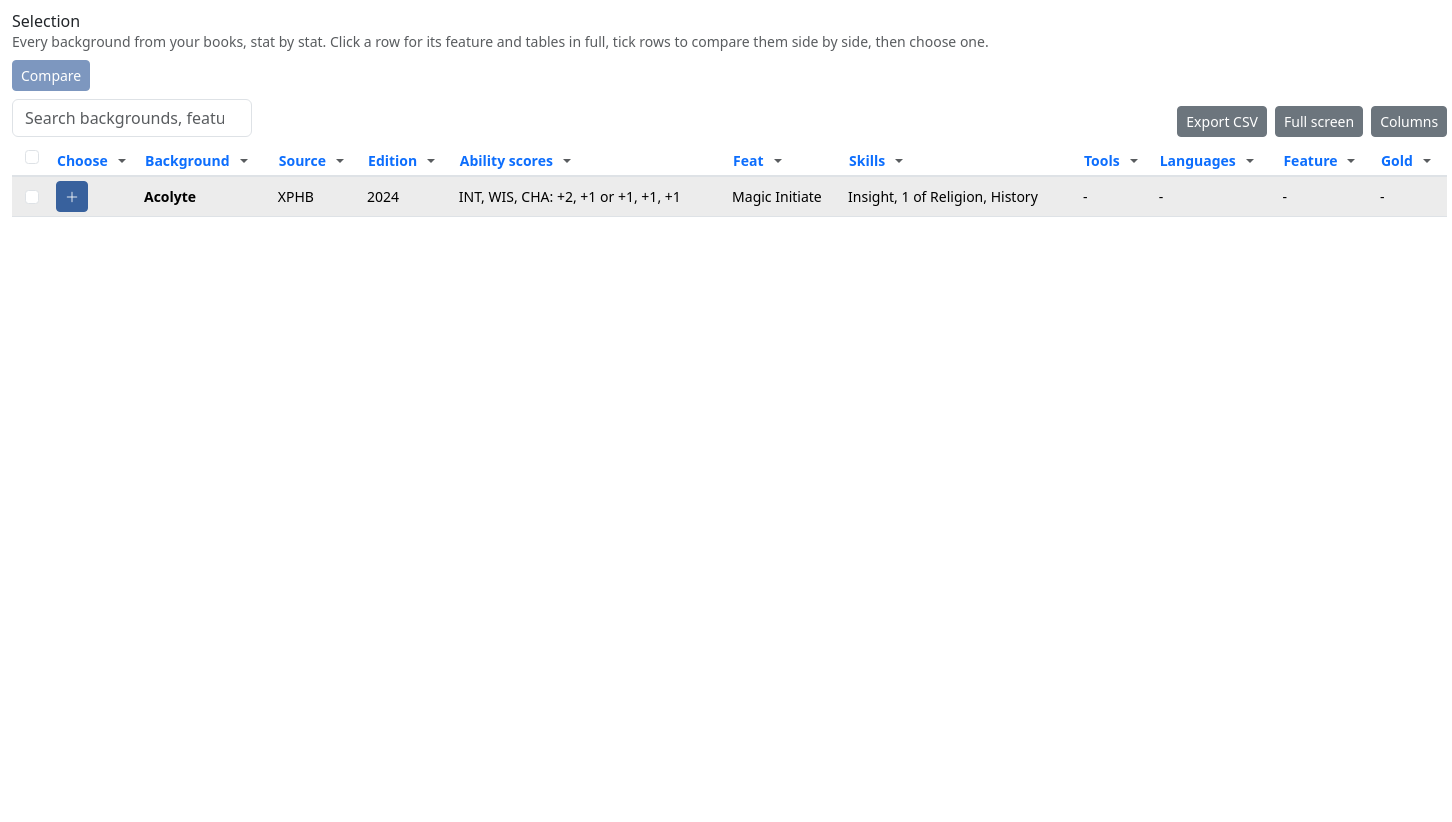
BackgroundSelection › chooses a background from the table, takes a way and places an increase
The image size is (1452, 822).
Later steps or results of the test are not shown.
Expected: the table named "Background reference" is shown, x1=12 y1=145 x2=1447 y2=217
Step 1. Click the button named "Choose" → (72, 197), box x1=56 y1=181 x2=88 y2=212
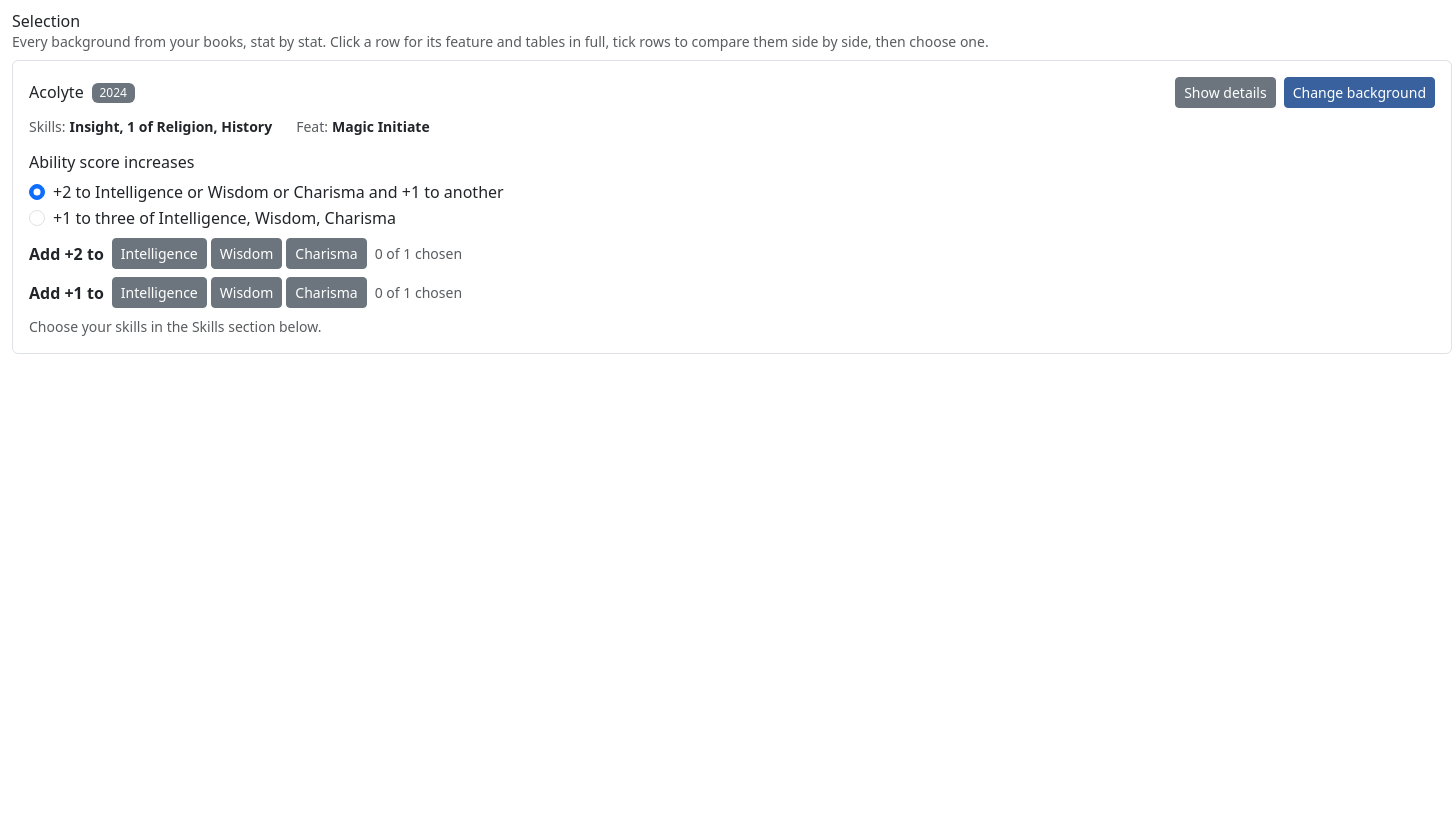
Result: the text "Skills:" is shown at x1=29 y1=116 x2=66 y2=137
Result: the element "Acolyte" shows "Insight" at x1=70 y1=117 x2=272 y2=136
Result: the text "Choose your skills in the Skills section below." is shown at x1=29 y1=317 x2=322 y2=336
Step 2. Click the button "Show details" → (1225, 93), box x1=1175 y1=77 x2=1276 y2=108
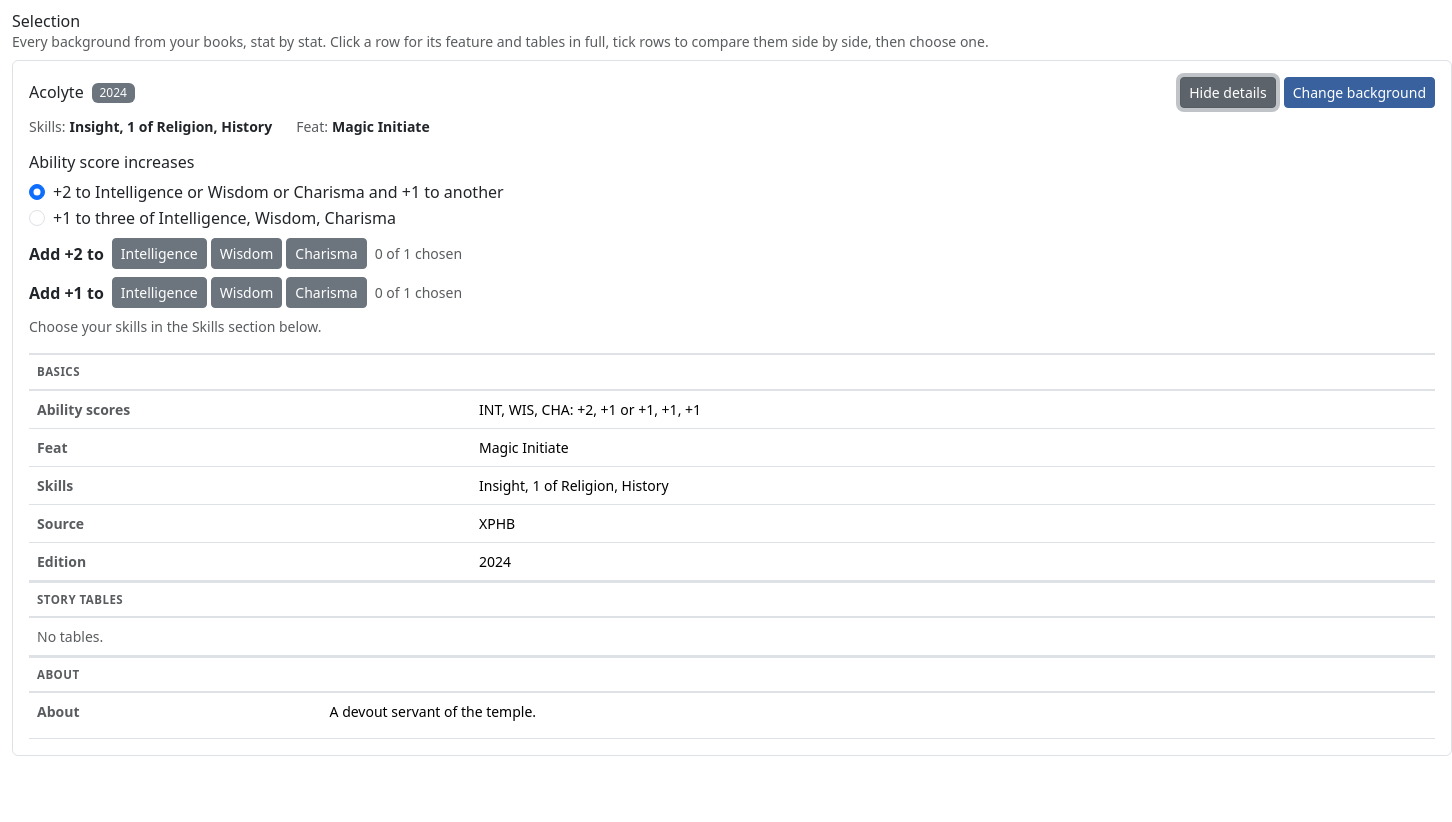
Result: the text "A devout servant of the temple." is shown at x1=330 y1=702 x2=536 y2=721
Step 3. Click the radio button labelled "+2 to Intelligence or Wisdom or Charisma and +1 to another" → (37, 192), box x1=29 y1=184 x2=45 y2=200
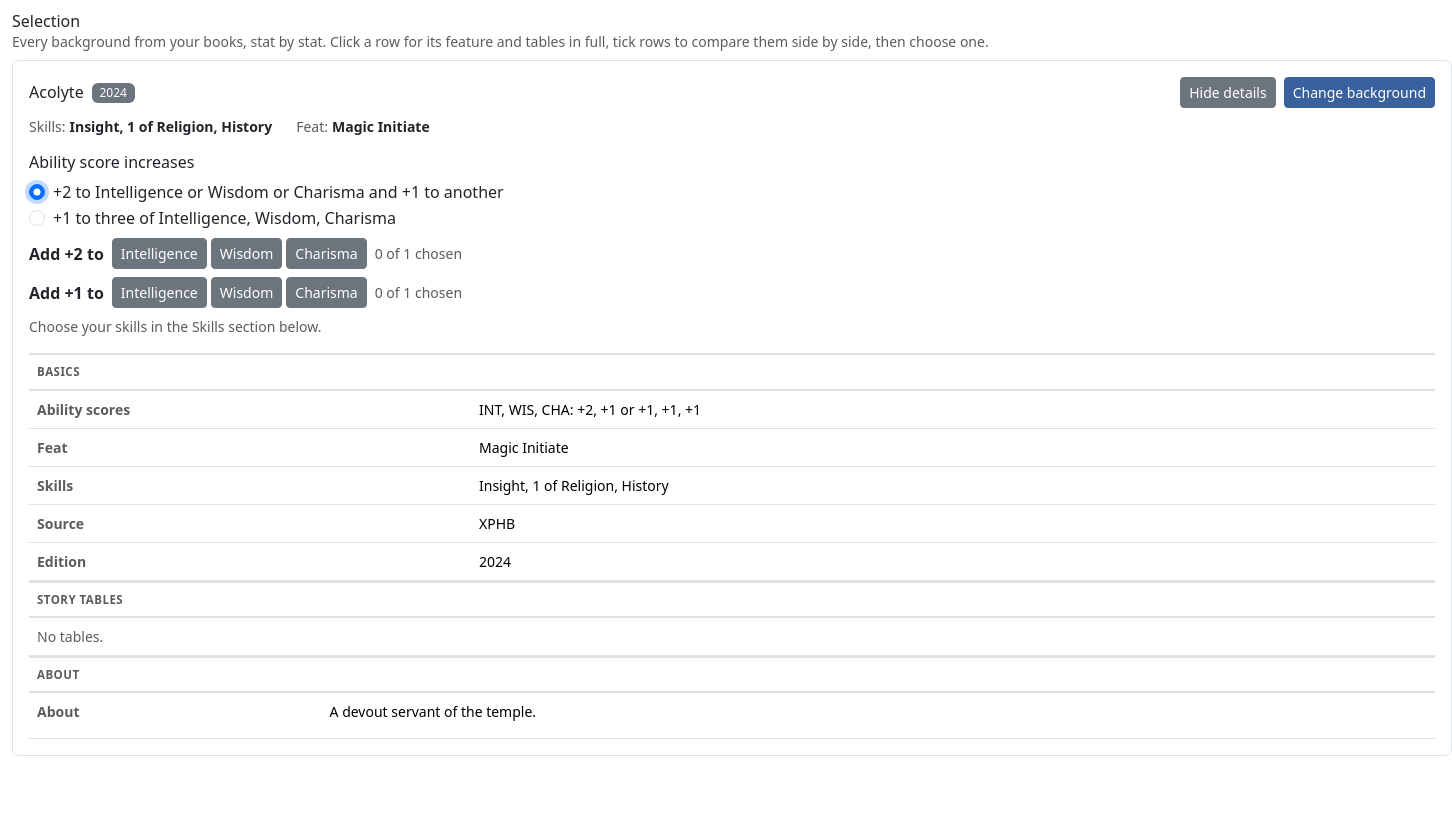
Step 4. Click the 1st button "Wisdom" → (247, 254), box x1=211 y1=238 x2=282 y2=269
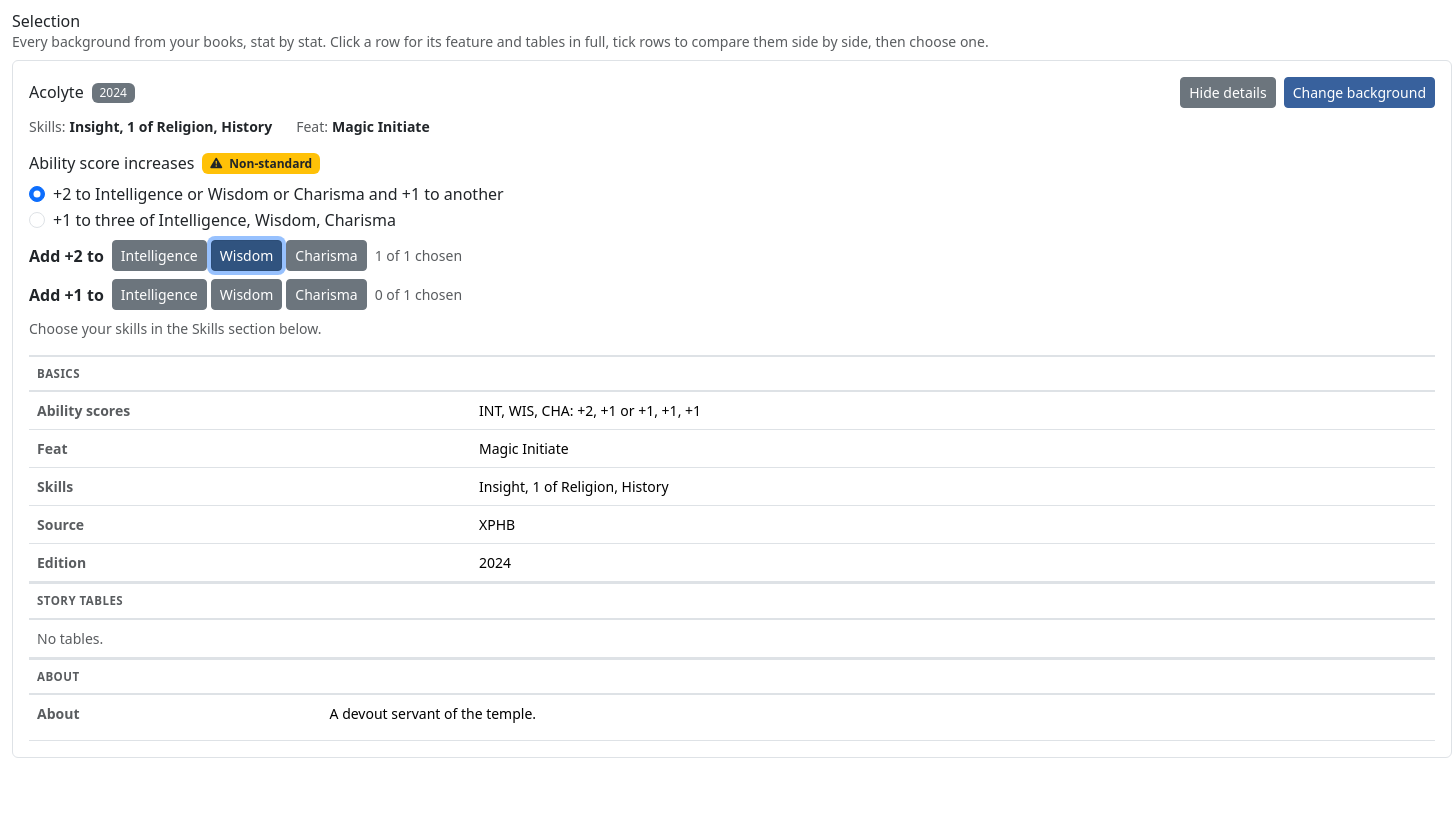
Result: the element showing "Non-standard" is shown at x1=202 y1=153 x2=320 y2=174
